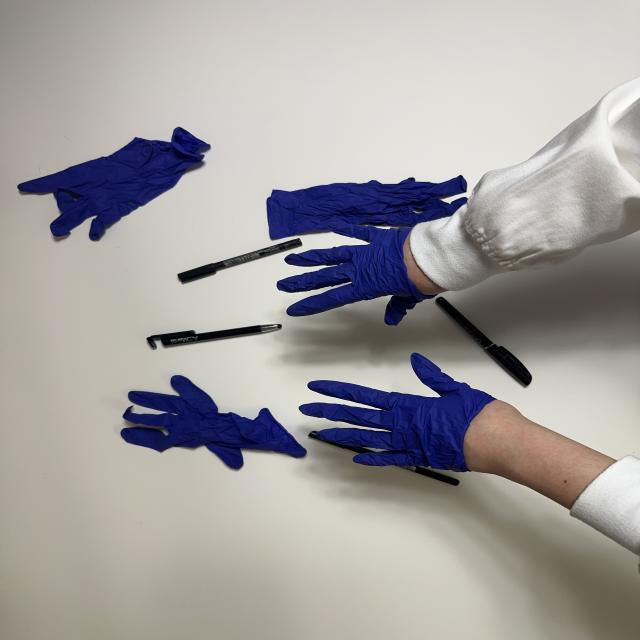glove_not_fitted: (296, 350, 532, 475), (278, 217, 454, 327)
